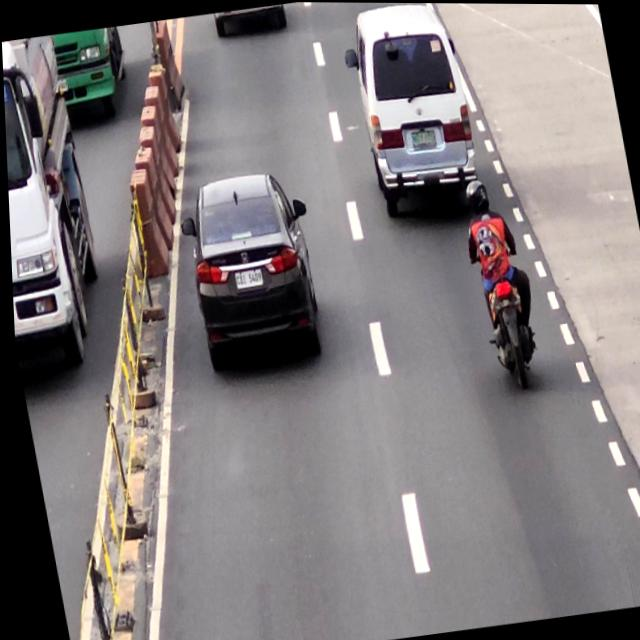Car: (175, 168, 322, 373), (349, 2, 479, 215)
License-Plate: (231, 266, 265, 294), (409, 127, 436, 151)
Motorcycle: (462, 178, 538, 389)
